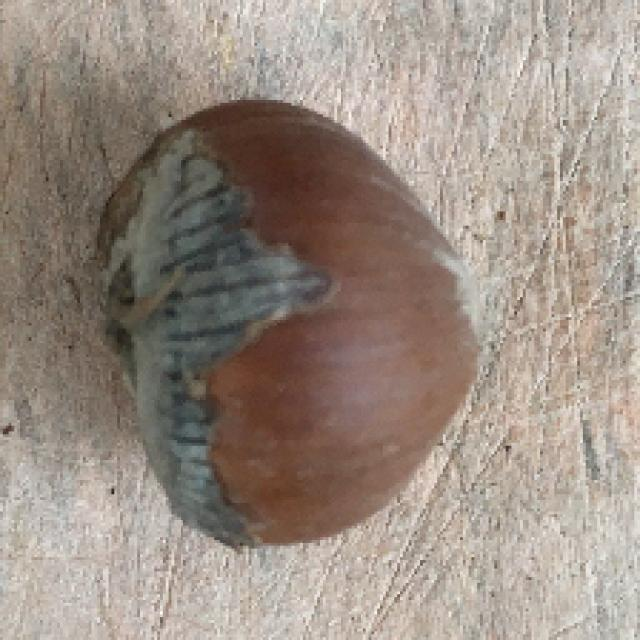damagedHazelnut: (88, 100, 486, 548)
